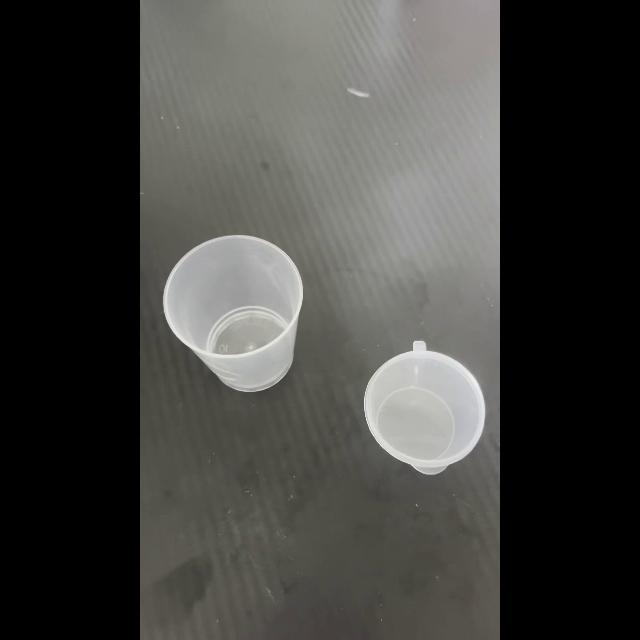clean: (162, 235, 302, 388), (363, 343, 487, 472)
